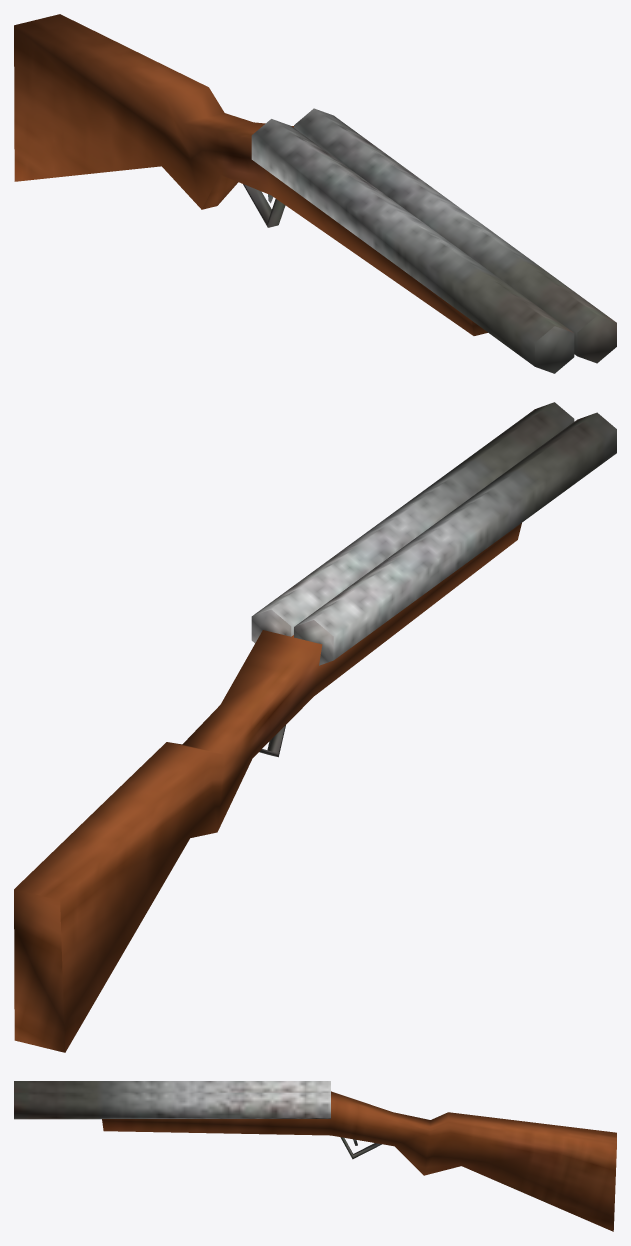
Rendered from shotgun.fbx.
The picture shows the model from 3 angles, top to bottom: view 1: azimuth 30°, elevation 25°; view 2: azimuth 150°, elevation 25°; view 3: azimuth 270°, elevation 25°; orthographic projection. The views are drawn at different scales.
Parts seen in each view (by area): view 1: Cube; view 2: Cube; view 3: Cube.
Boxes of the visible parts, x1,y1,x2,y2 form: Cube: (14, 14, 616, 373); Cube: (14, 402, 616, 1052); Cube: (14, 1081, 616, 1231).
Bounding box in the file's own units: 0.0664 × 0.1909 × 0.7545.
